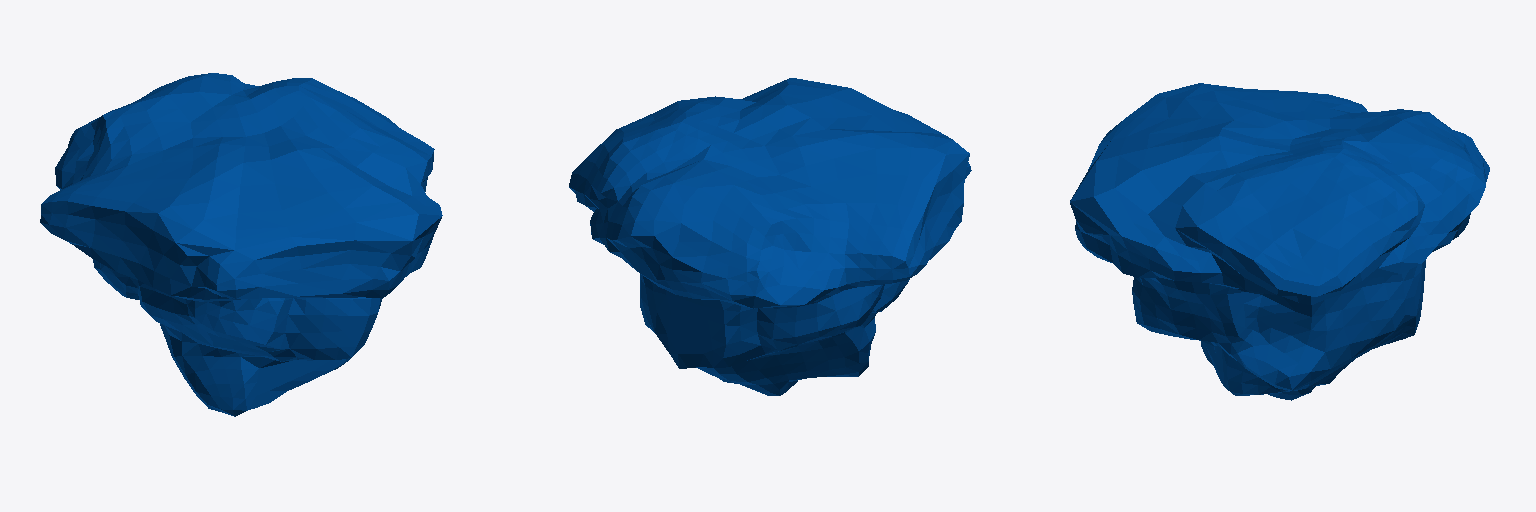
Rendered from rockFlipped.obj.
3 renders of one model, left to right at view 1: azimuth 30°, elevation 25°; view 2: azimuth 150°, elevation 25°; view 3: azimuth 270°, elevation 25°, orthographic.
Visible parts, largest first — view 1: Rock_6; view 2: Rock_6; view 3: Rock_6.
Boxes of the visible parts, x1,y1,x2,y2 form: Rock_6: [40, 73, 442, 416]; Rock_6: [569, 78, 971, 395]; Rock_6: [1070, 83, 1489, 400].
Bounding box in the file's own units: 2.6 × 1.86 × 2.65.